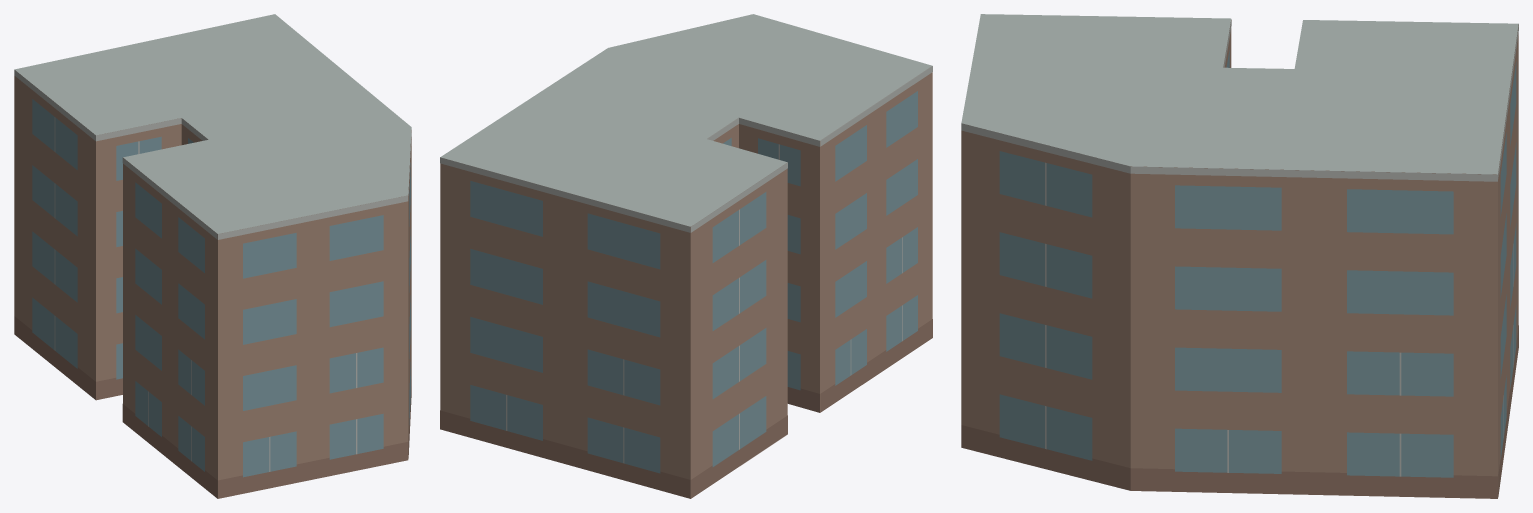
File: survey-upis-32683780.glb
3 renders of one model, left to right at view 1: azimuth 30°, elevation 25°; view 2: azimuth 150°, elevation 25°; view 3: azimuth 270°, elevation 25°, orthographic. The views are drawn at different scales.
Visible parts, largest first — view 1: survey-upis-32683780.tmp; view 2: survey-upis-32683780.tmp; view 3: survey-upis-32683780.tmp.
Boxes of the visible parts, x1,y1,x2,y2 form: survey-upis-32683780.tmp: (14,14,411,498); survey-upis-32683780.tmp: (440,14,932,498); survey-upis-32683780.tmp: (961,14,1518,498).
Size of the model in its own units: 11.5 by 10.83 by 16.87.
